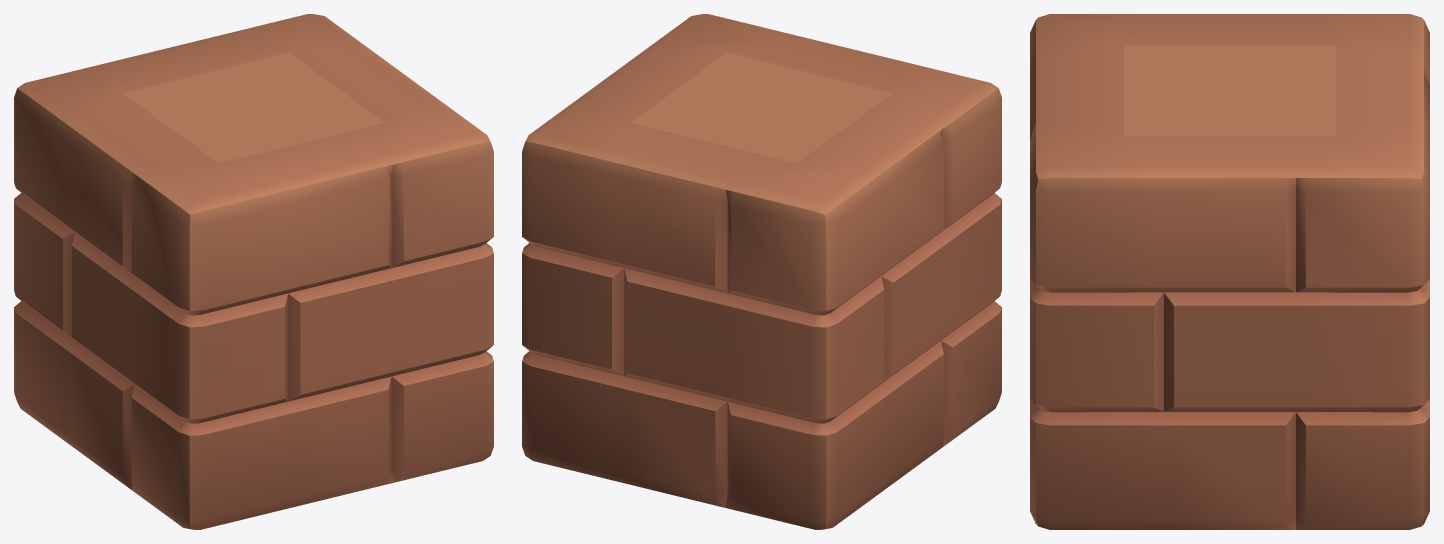
File: bricks_B.glb
3 views of the same model, side by side, from view 1: azimuth 30°, elevation 25°; view 2: azimuth 150°, elevation 25°; view 3: azimuth 270°, elevation 25° (orthographic). The views are drawn at different scales.
Parts seen in each view (by area): view 1: bricks_B; view 2: bricks_B; view 3: bricks_B.
Part boxes in pixels (x1=…): bricks_B: x1=14, y1=14, x2=493, y2=529; bricks_B: x1=522, y1=14, x2=1001, y2=529; bricks_B: x1=1030, y1=14, x2=1429, y2=529.
Bounding box in the file's own units: 2 × 2 × 2.
Materials: 1 (1 with a texture image).
